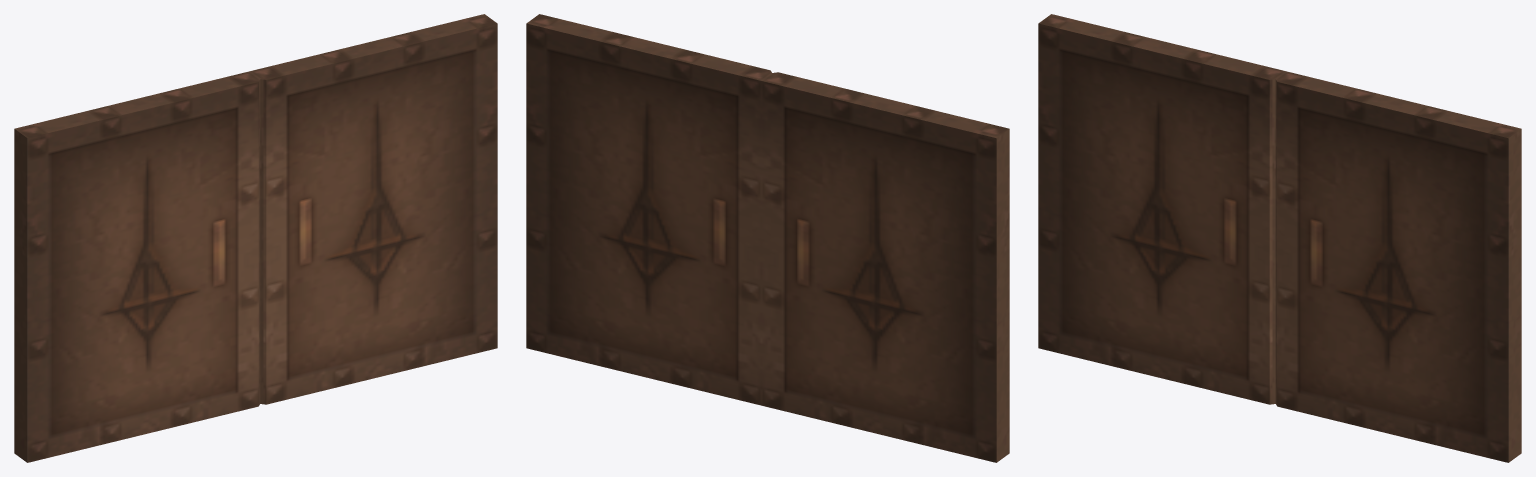
The model's file is Labyrinth Door_HD.fbx.
The picture shows the model from 3 angles, left to right: view 1: azimuth 30°, elevation 25°; view 2: azimuth 150°, elevation 25°; view 3: azimuth 330°, elevation 25°; orthographic projection.
Visible parts, largest first — view 1: doorL, doorR; view 2: doorL, doorR; view 3: doorR, doorL.
Part boxes in pixels (x1,y1,x2,y2): doorL: (14,71,260,462); doorR: (250,14,497,404); doorL: (761,72,1009,462); doorR: (526,14,771,405); doorR: (1275,71,1521,462); doorL: (1038,14,1285,404).
Size of the model in its own units: 3 by 1.98 by 0.1441.
